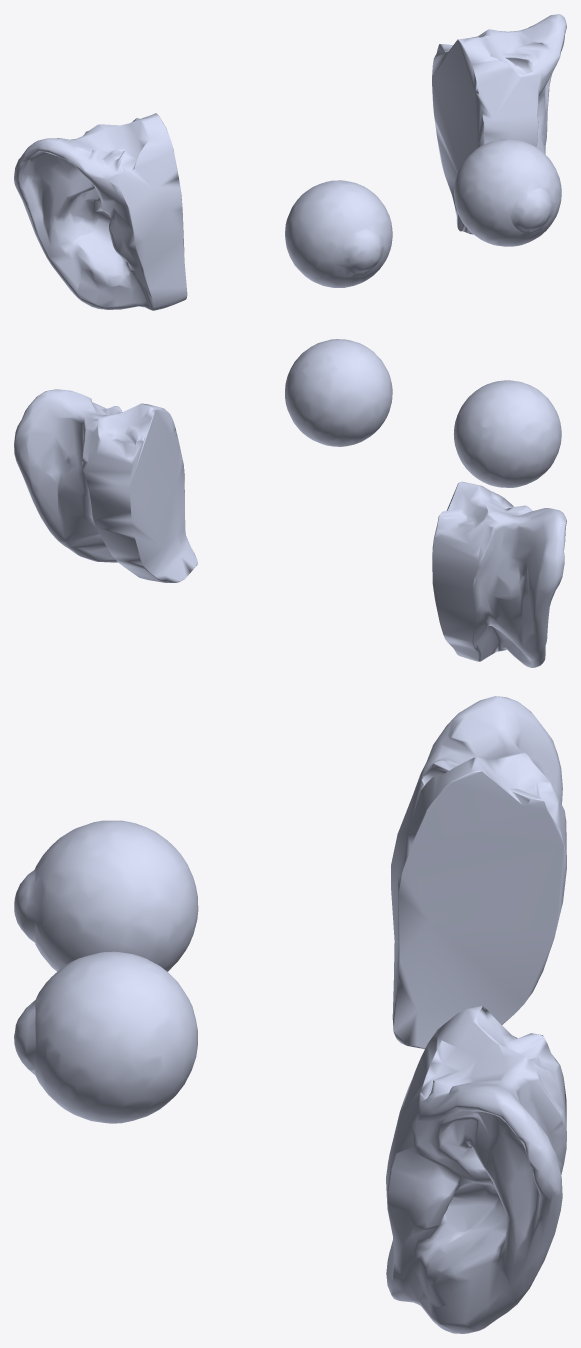
Rendered from sentidos.glb.
3 renders of one model, top to bottom at view 1: azimuth 30°, elevation 25°; view 2: azimuth 150°, elevation 25°; view 3: azimuth 270°, elevation 25°, orthographic. The views are drawn at different scales.
Parts seen in each view (by area): view 1: FMA52780, FMA12513; view 2: FMA52780, FMA12513; view 3: FMA52780, FMA12513.
Boxes of the visible parts, x1=… form: FMA52780: x1=14, y1=14, x2=566, y2=310; FMA12513: x1=285, y1=139, x2=561, y2=287; FMA52780: x1=14, y1=389, x2=566, y2=667; FMA12513: x1=285, y1=339, x2=561, y2=487; FMA52780: x1=386, y1=696, x2=566, y2=1333; FMA12513: x1=14, y1=820, x2=198, y2=1123.
Bounding box in the file's own units: 0.1807 × 0.0569 × 0.0993.
